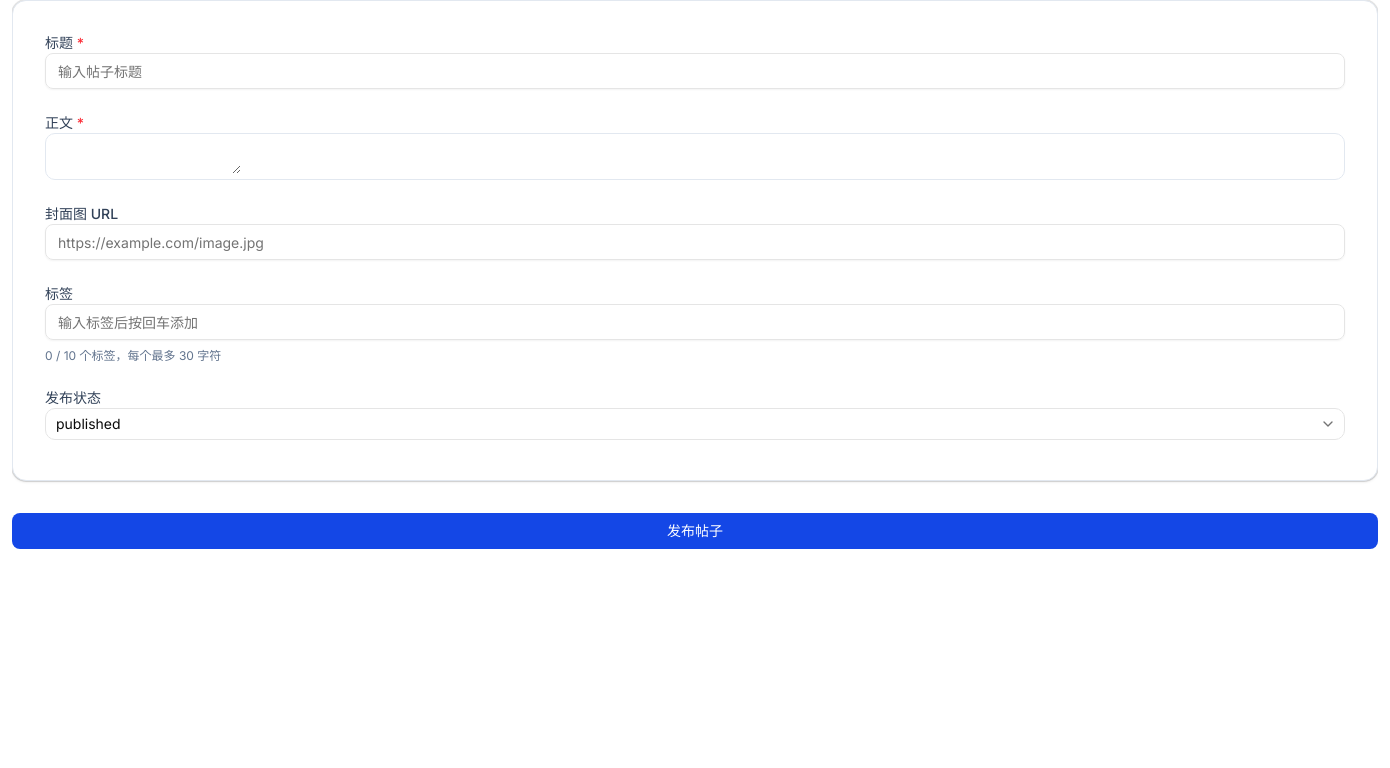
Test: PostForm › shows validation error when title is empty
Click the button "发布帖子": (695, 531) [12,513,1378,549]
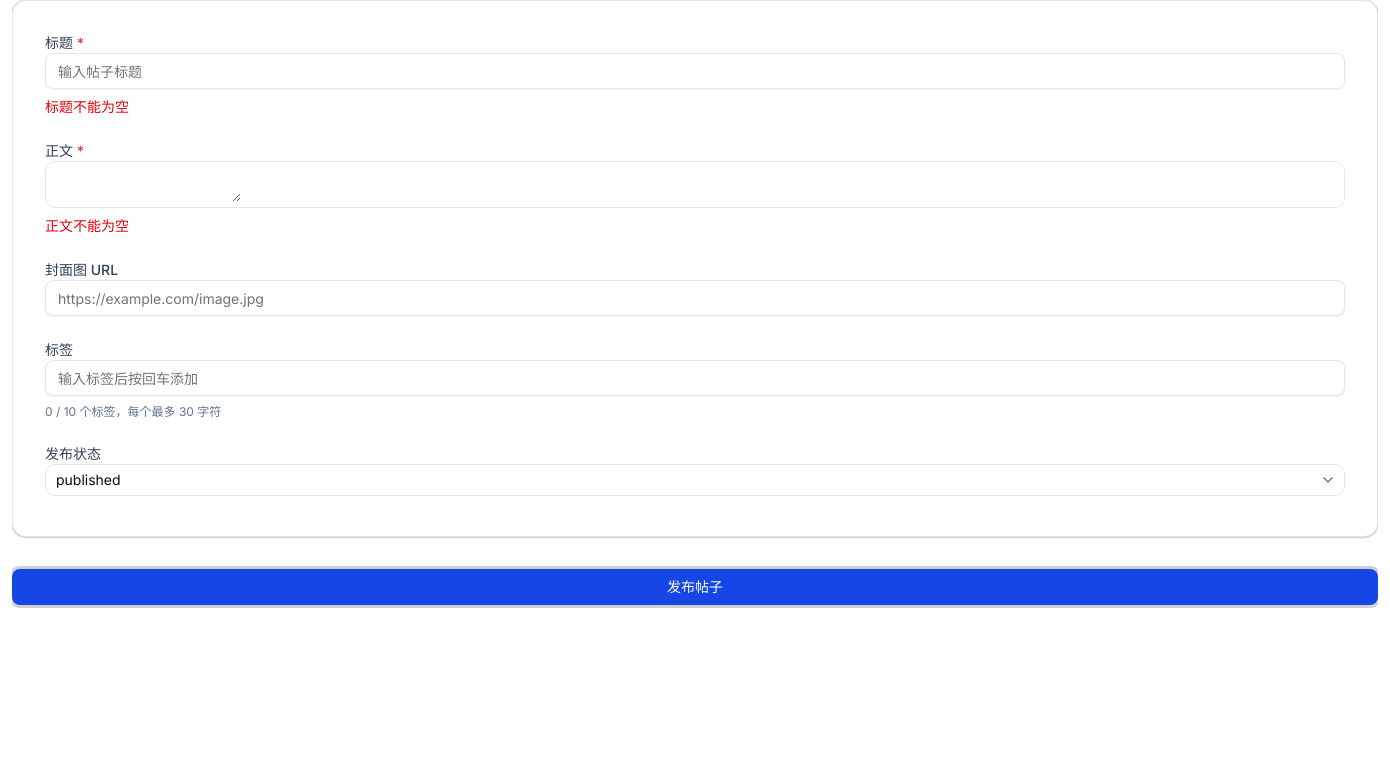
Now the text "标题不能为空" is shown, box [45,98,129,115]
